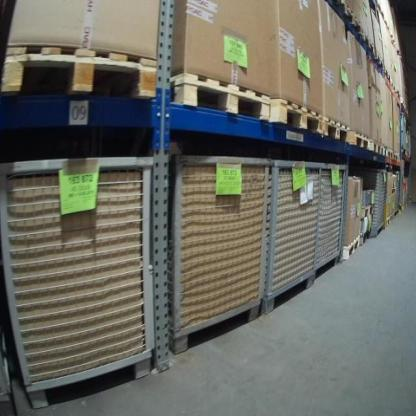pallet: (1, 44, 158, 101), (171, 71, 273, 124), (273, 97, 324, 137), (325, 115, 352, 147), (341, 232, 361, 264), (353, 128, 373, 154), (371, 140, 381, 155)
stillage: (1, 151, 161, 413), (165, 148, 274, 354), (260, 151, 321, 313), (313, 157, 349, 284), (354, 163, 386, 241), (395, 172, 402, 214), (400, 112, 405, 157), (408, 119, 413, 160)
